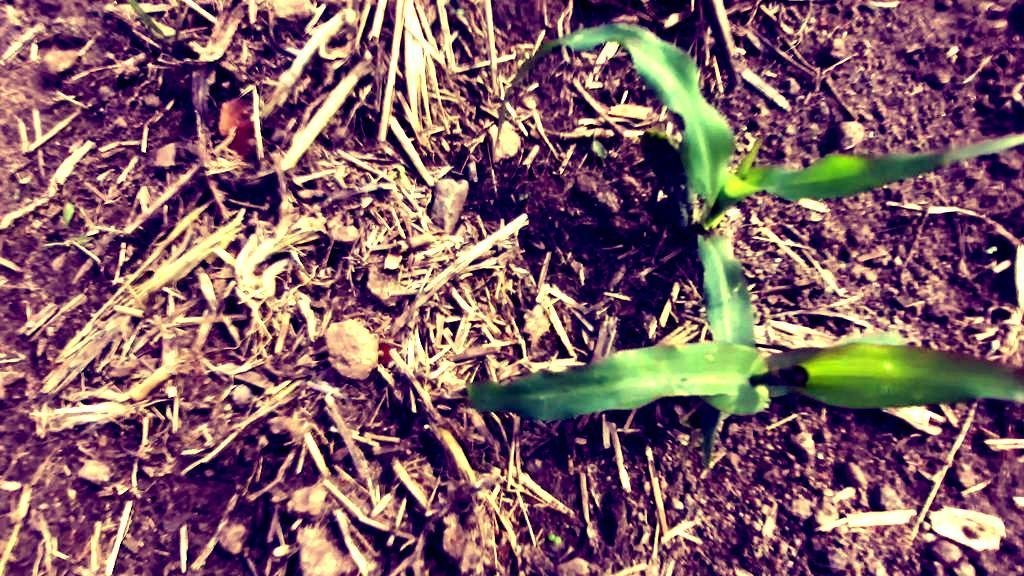BroWeed: (43, 232, 94, 253), (585, 136, 615, 167), (57, 199, 79, 226), (1011, 80, 1024, 109), (394, 161, 410, 178), (544, 530, 563, 544), (152, 293, 166, 311), (203, 251, 218, 267), (257, 435, 268, 451), (448, 6, 464, 16), (984, 245, 998, 255), (12, 188, 22, 201), (516, 193, 530, 202), (815, 449, 825, 461)
NarWeed: (169, 2, 188, 59)
